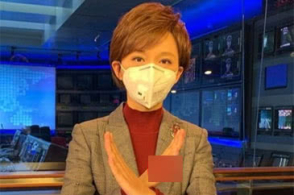mask: (118, 60, 184, 108)
